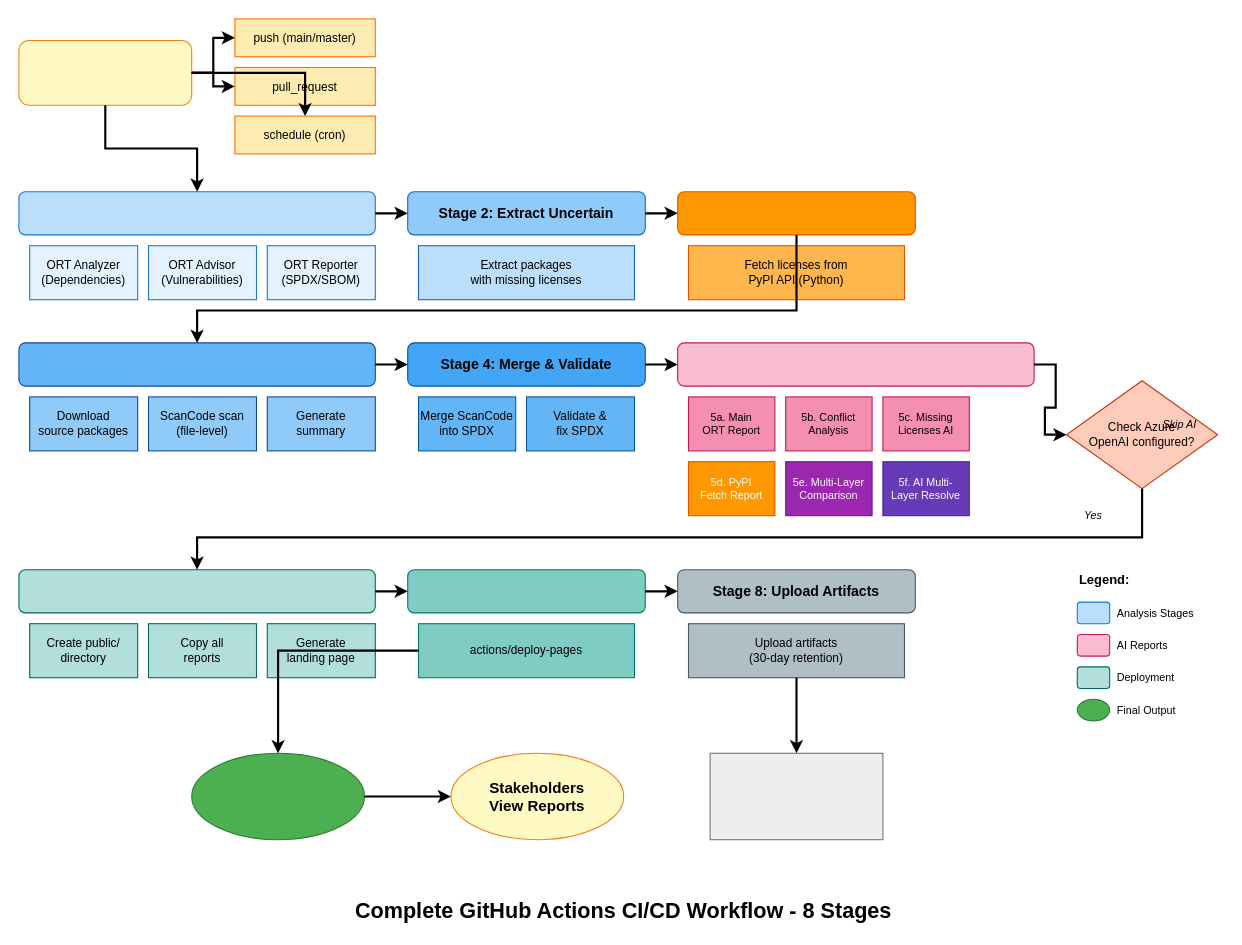
Some shapes in this 1242 by 945 pixel diagram are drawn without their labels. Each missing label, with the centre of its shape:
"Artifact Storage" belongs at pixel 796 796.
"GitHub Pages" belongs at pixel 277 796.
"Stage 1: ORT Analysis" belongs at pixel 196 213.
"Stage 2.5: PyPI Fetch (NEW)" belongs at pixel 796 213.
"Stage 3: ScanCode Scan" belongs at pixel 196 364.
"Stage 5: AI Curation (5 Reports)" belongs at pixel 855 364.
"Stage 6: Prepare Deployment" belongs at pixel 196 591.
"Stage 7: Deploy to GitHub Pages" belongs at pixel 526 591.
"Workflow Trigger" belongs at pixel 105 72.
